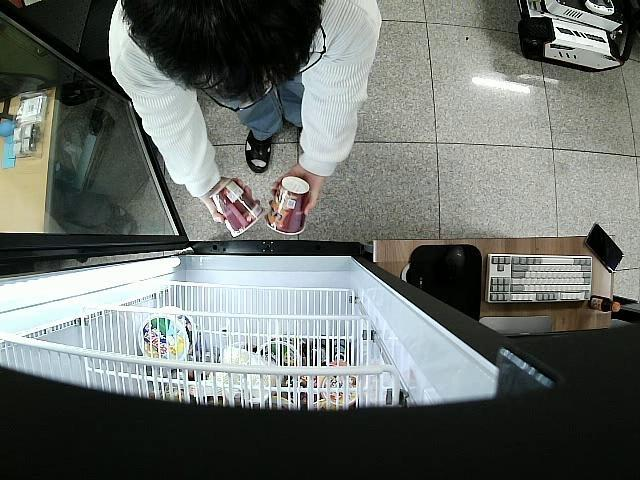06_nuguri_S: (208, 180, 264, 240), (265, 175, 311, 234)
